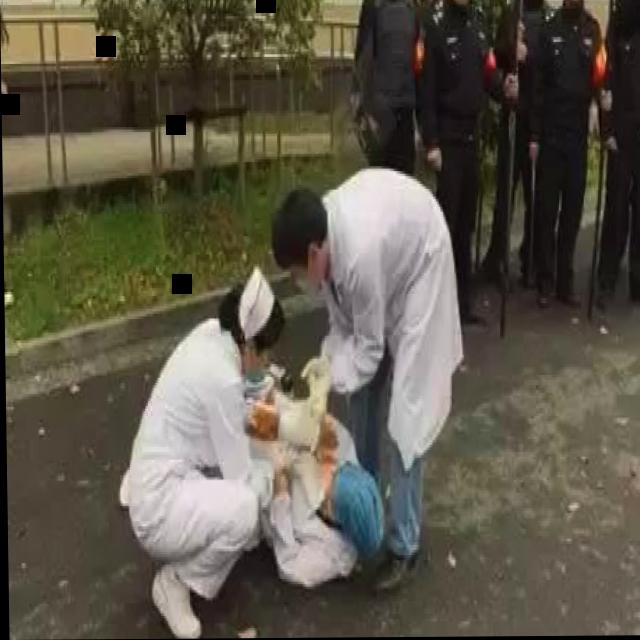Fall-Detected: (243, 371, 389, 600)
